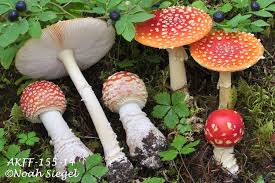Amanita muscaria: (15, 79, 94, 179), (133, 8, 210, 87), (187, 29, 267, 105), (104, 72, 171, 159), (208, 112, 242, 172)
